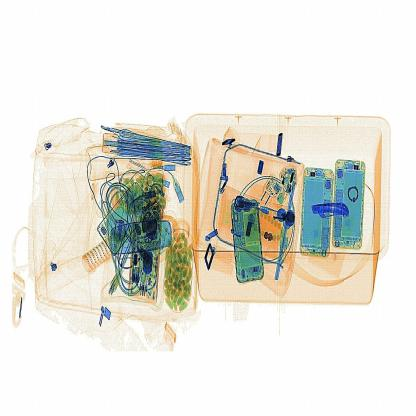knife: (302, 196, 352, 227)
